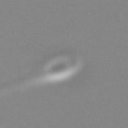normal: (1, 58, 44, 108)
